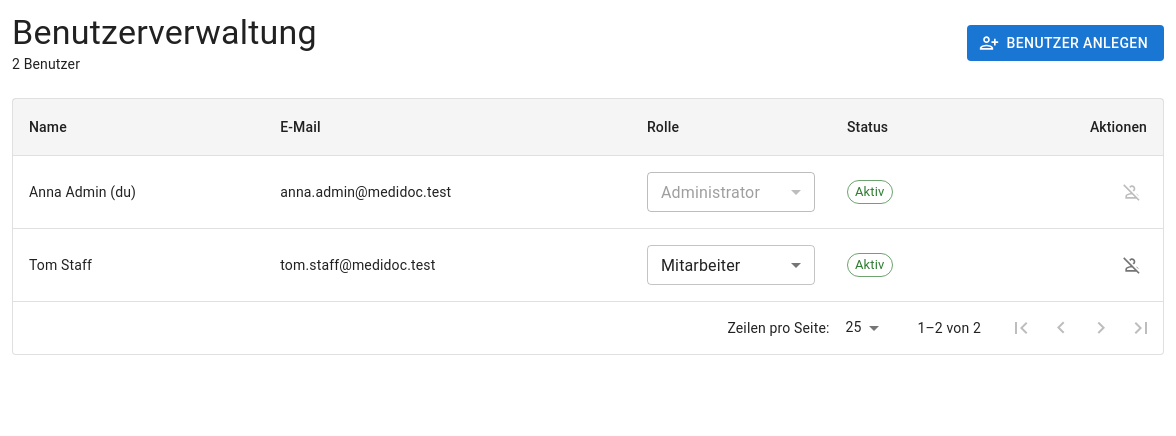
Test: UsersPage › zeigt den Fehler des Backends, statt ihn zu verschlucken
Select "Administrator" in the dropdown named "Rolle von Tom Staff": (731, 265) [647,245,815,285]
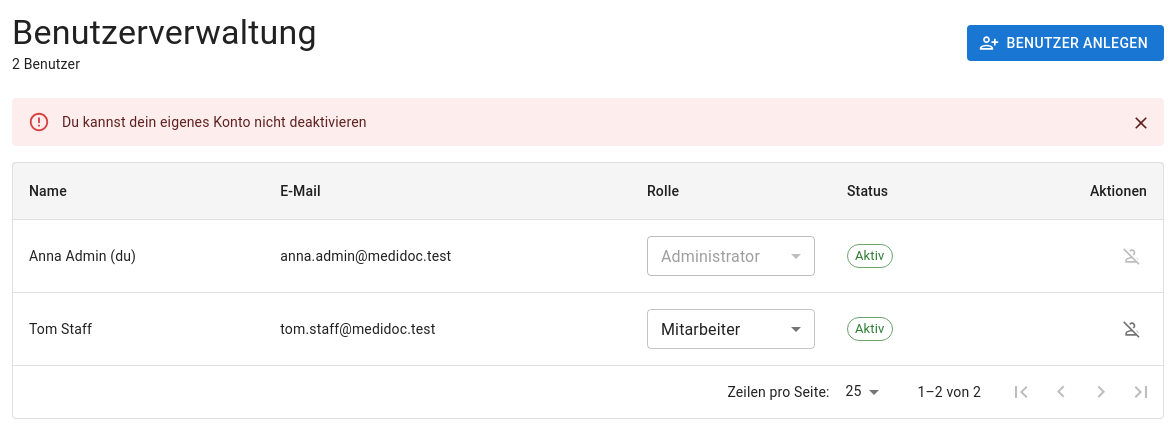
Expected: the cell "Tom Staff" is shown, [13,292,264,366]
Now the message reads "Du kannst dein eigenes Konto nicht deaktivieren", box [62,114,367,130]
